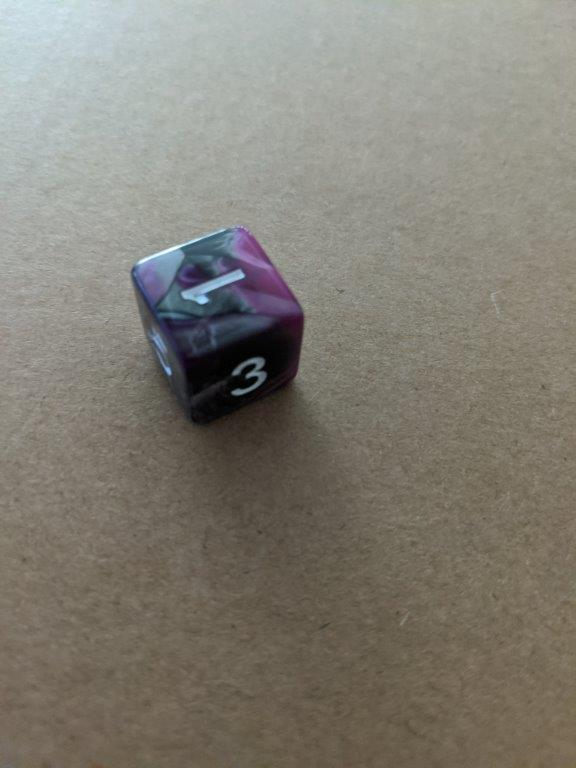d6-1: (127, 224, 307, 429)
